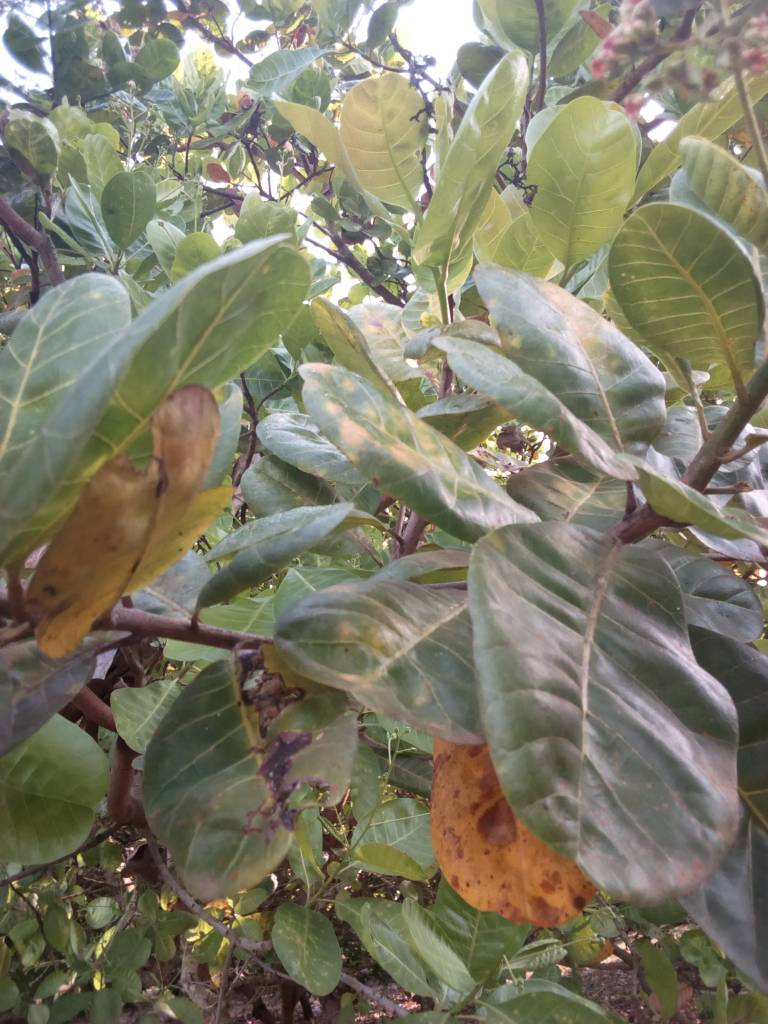Alternariose: (302, 364, 540, 539), (479, 255, 669, 467)
